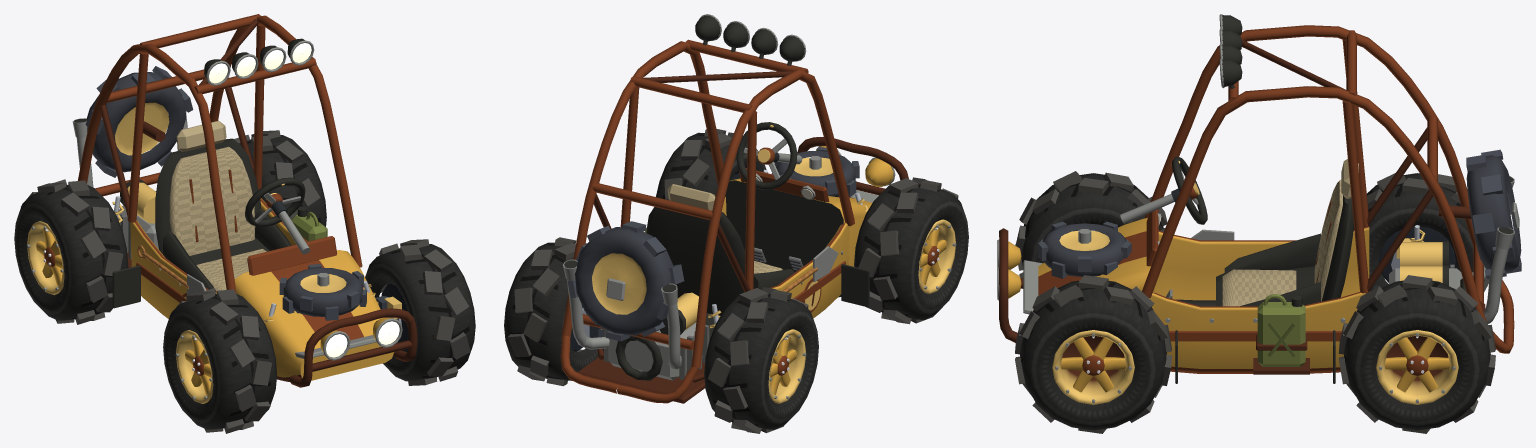
File: duna.glb
3 renders of one model, left to right at view 1: azimuth 30°, elevation 25°; view 2: azimuth 150°, elevation 25°; view 3: azimuth 270°, elevation 25°, orthographic. The views are drawn at different scales.
Visible parts, largest first — view 1: body_mesh, wheel_fr_mesh, wheel_rr_mesh, wheel_fl_mesh, wheel_rl_mesh, steering_mesh; view 2: body_mesh, wheel_rr_mesh, wheel_fr_mesh, wheel_rl_mesh, wheel_fl_mesh, steering_mesh; view 3: body_mesh, wheel_rl_mesh, wheel_fl_mesh, wheel_fr_mesh, wheel_rr_mesh, steering_mesh.
Part boxes in pixels (x1,y1,x2,y2): body_mesh: [72, 14, 417, 387]; wheel_fr_mesh: [163, 288, 276, 433]; wheel_rr_mesh: [14, 179, 128, 324]; wheel_fl_mesh: [365, 239, 475, 385]; wheel_rl_mesh: [234, 130, 326, 226]; steering_mesh: [245, 177, 305, 226]; body_mesh: [560, 14, 908, 403]; wheel_rr_mesh: [704, 287, 818, 433]; wheel_fr_mesh: [854, 177, 968, 324]; wheel_rl_mesh: [504, 237, 603, 386]; wheel_fl_mesh: [656, 129, 766, 199]; steering_mesh: [736, 122, 797, 190]; body_mesh: [997, 14, 1521, 383]; wheel_rl_mesh: [1338, 275, 1495, 433]; wheel_fl_mesh: [1015, 275, 1171, 433]; wheel_fr_mesh: [1015, 171, 1167, 278]; wheel_rr_mesh: [1353, 173, 1489, 291]; steering_mesh: [1171, 156, 1207, 224].
Bounding box in the file's own units: 1.48 × 1.69 × 2.4.
Materials: 11 (4 with a texture image).
